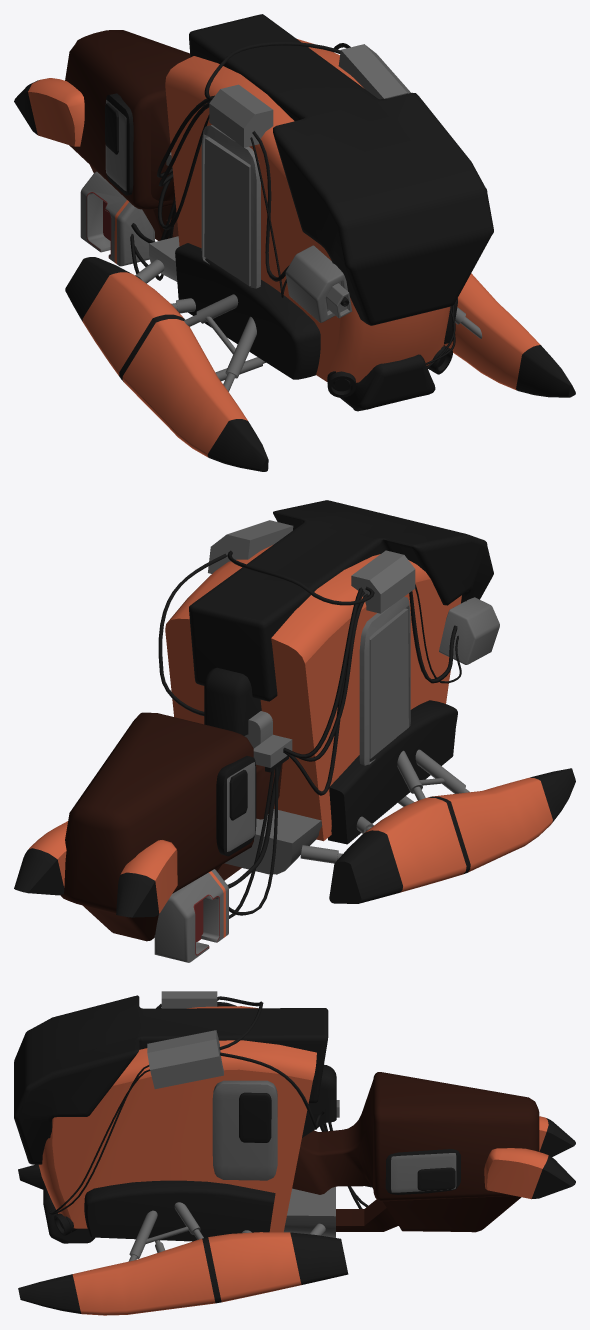
File: MDL_Rover.fbx
3 renders of one model, top to bottom at view 1: azimuth 30°, elevation 25°; view 2: azimuth 150°, elevation 25°; view 3: azimuth 270°, elevation 25°, orthographic. The views are drawn at different scales.
Parts seen in each view (by area): view 1: Cube.029, Cube.006, Survival Mars, Cube.004, Cube.017, Cube.026, Cube.013, Cube.015, Cube.012, Cube.031, Cube.025, Cube.030 (+9 smaller); view 2: Cube.004, Survival Mars, Cube.029, Cube.006, Cube.017, Cube.026, Cube.015, Cube.013, Cube.008, Cube.022, Cube.018, Cube.012 (+14 smaller); view 3: Survival Mars, Cube.004, Cube.029, Cube.006, Cube.017, Cube.027, Cube.015, Cube.030, Cube.020, Cube.008, Cube.028, Cube.022 (+7 smaller).
Boxes of the visible parts, <box> form: Cube.029: <box>189,14,493,325</box>; Cube.006: <box>65,257,575,471</box>; Survival Mars: <box>165,39,450,382</box>; Cube.004: <box>65,30,190,240</box>; Cube.017: <box>175,243,457,379</box>; Cube.026: <box>201,125,260,288</box>; Cube.013: <box>80,171,154,266</box>; Cube.015: <box>14,78,84,146</box>; Cube.012: <box>285,245,352,322</box>; Cube.031: <box>340,354,435,411</box>; Cube.025: <box>209,84,273,147</box>; Cube.030: <box>338,44,410,99</box>; Cube.004: <box>60,712,282,941</box>; Survival Mars: <box>165,544,461,841</box>; Cube.029: <box>189,500,493,701</box>; Cube.006: <box>329,768,575,903</box>; Cube.017: <box>328,700,457,844</box>; Cube.026: <box>359,596,410,765</box>; Cube.015: <box>14,821,177,917</box>; Cube.013: <box>154,869,228,962</box>; Cube.008: <box>224,809,321,874</box>; Cube.022: <box>204,667,261,735</box>; Cube.018: <box>216,756,256,856</box>; Cube.012: <box>439,597,499,664</box>; Survival Mars: <box>39,1006,316,1232</box>; Cube.004: <box>292,1072,539,1232</box>; Cube.029: <box>14,995,328,1164</box>; Cube.006: <box>18,1164,348,1315</box>; Cube.017: <box>84,1180,275,1241</box>; Cube.027: <box>212,1080,277,1180</box>; Cube.015: <box>484,1116,575,1199</box>; Cube.030: <box>147,1030,223,1089</box>; Cube.020: <box>385,1149,460,1194</box>; Cube.008: <box>284,1186,335,1237</box>; Cube.028: <box>239,1092,271,1142</box>; Cube.022: <box>302,1064,336,1137</box>.
Size of the model in its own units: 807 by 669 by 1402.
